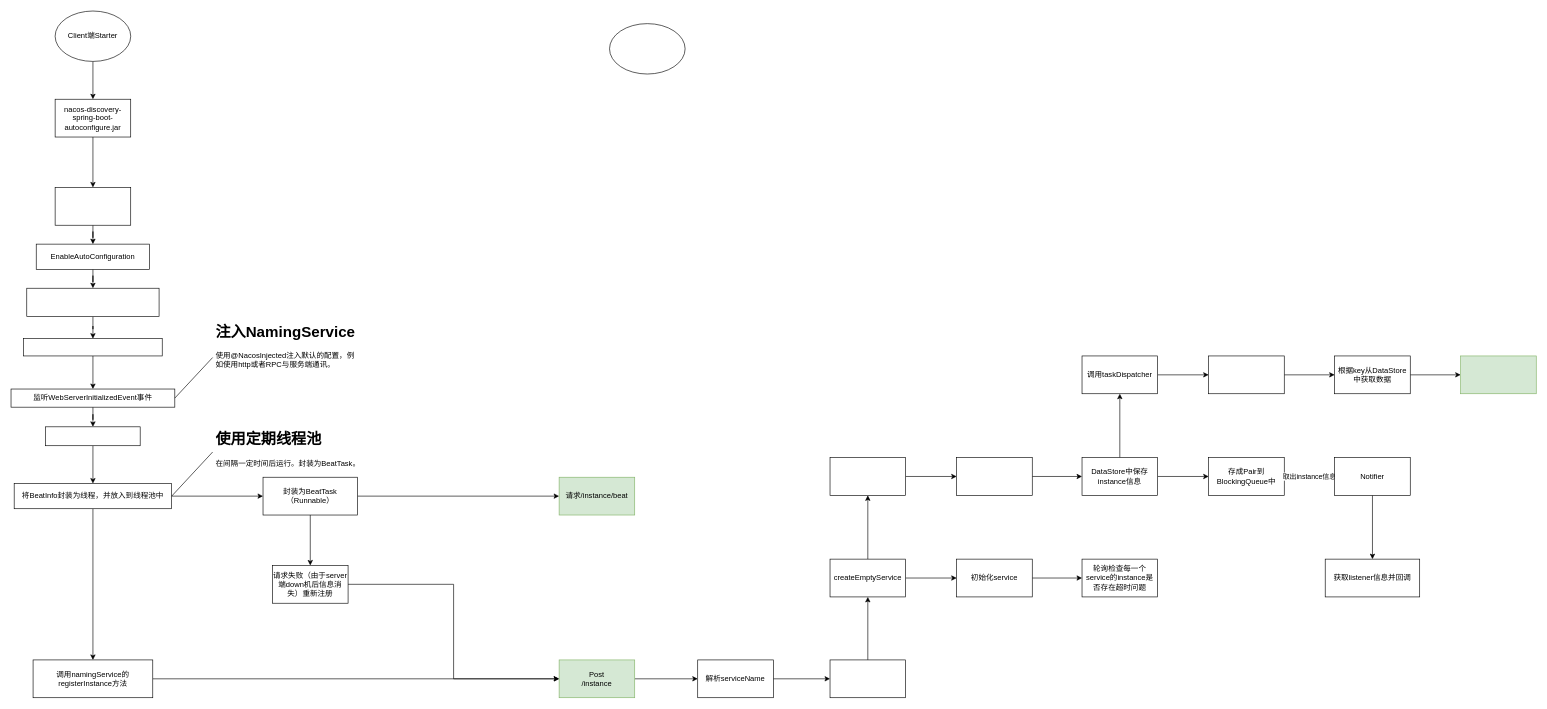
This 1547x709 diagram has some shape labels left out. The box of each missing label's shape, as (x1, y1, x2, y2) in pixels:
addInstance: (829, 457, 906, 495)
addTask进入到不同的进程中: (1208, 355, 1284, 394)
Server端: (609, 23, 685, 74)
spring.factory: (54, 187, 131, 225)
临时节点构建BeatInfo: (45, 426, 140, 446)
创建NacosDiscoveryAutoRegister: (23, 338, 162, 356)
解析instance: (829, 659, 906, 698)
请求路径 /ns/distro/datum: (1460, 355, 1536, 394)
调用ConsistencyService: (956, 457, 1032, 495)
配置NacosDiscoveryAutoConfiguration: (26, 288, 159, 317)
